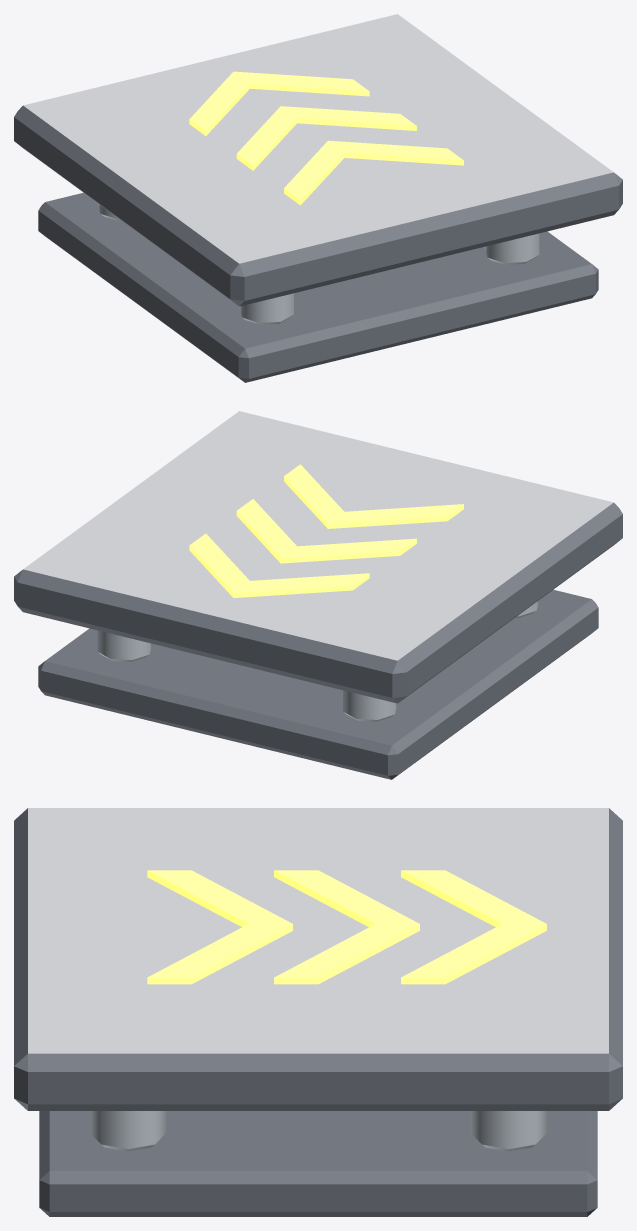
Rendered from R4D_KnockbackTrap_LOD1.fbx.
3 renders of one model, top to bottom at view 1: azimuth 30°, elevation 25°; view 2: azimuth 150°, elevation 25°; view 3: azimuth 270°, elevation 25°, orthographic. The views are drawn at different scales.
Parts seen in each view (by area): view 1: R4D_KnockbackTrap_LOD1; view 2: R4D_KnockbackTrap_LOD1; view 3: R4D_KnockbackTrap_LOD1.
Part boxes in pixels (left/top/right/bottom): R4D_KnockbackTrap_LOD1: left=14, top=14, right=622, bottom=382; R4D_KnockbackTrap_LOD1: left=14, top=411, right=622, bottom=779; R4D_KnockbackTrap_LOD1: left=14, top=808, right=622, bottom=1216.
Size of the model in its own units: 0.48 by 0.156 by 0.48.
